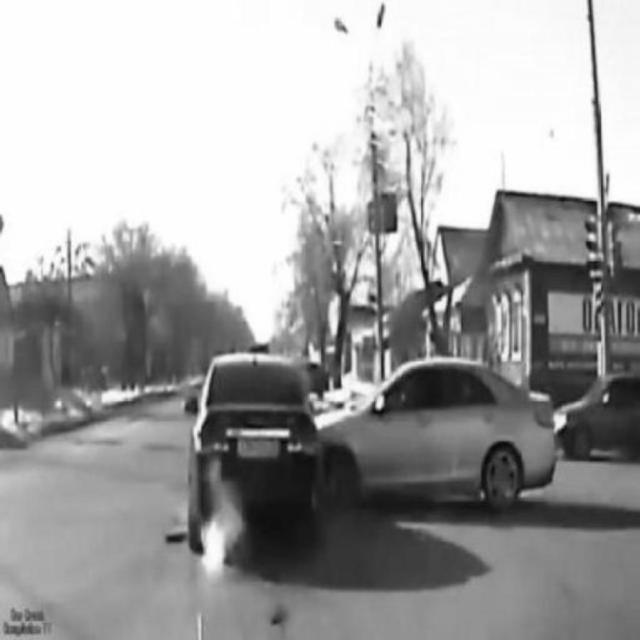accident: (185, 340, 553, 538)
vehicle: (557, 374, 640, 457)
